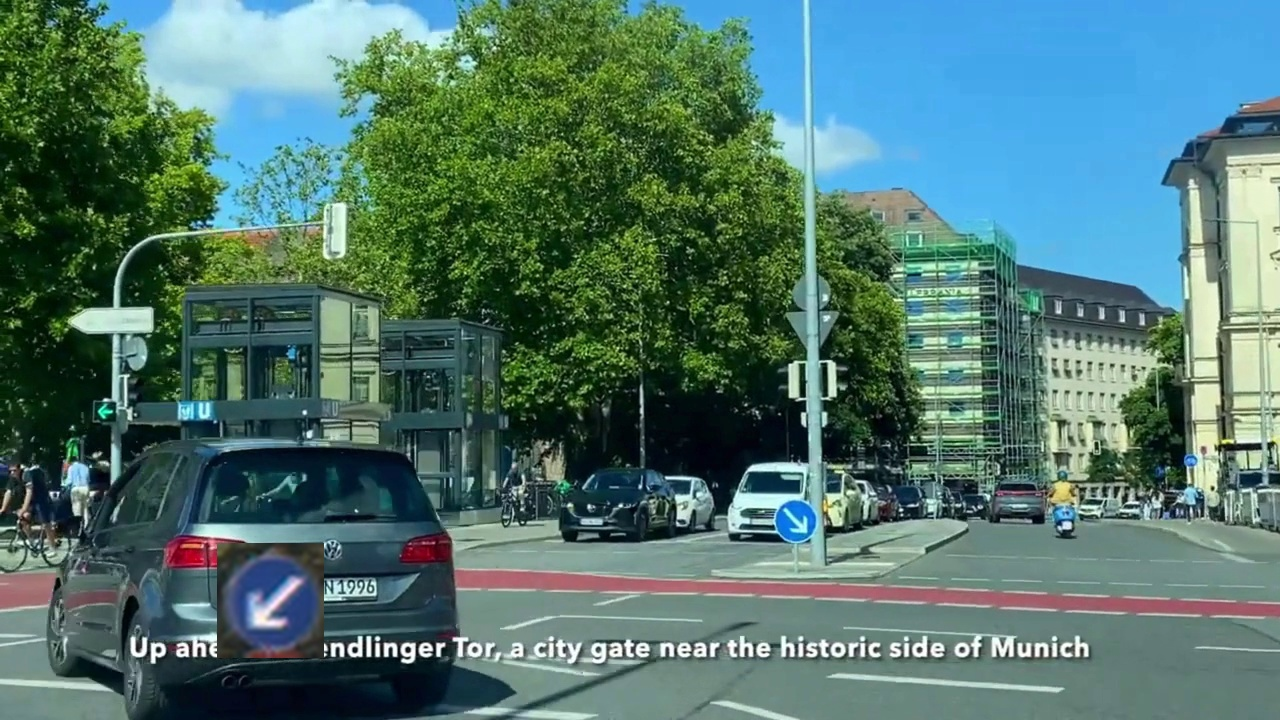Keep left: (217, 543, 324, 658)
